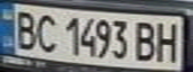1: (60, 12, 81, 56)
3: (109, 17, 133, 61)
4: (78, 15, 96, 57)
9: (93, 16, 115, 58)
B: (9, 7, 39, 52), (130, 18, 160, 62)
C: (33, 10, 60, 54)
H: (151, 18, 184, 63)
